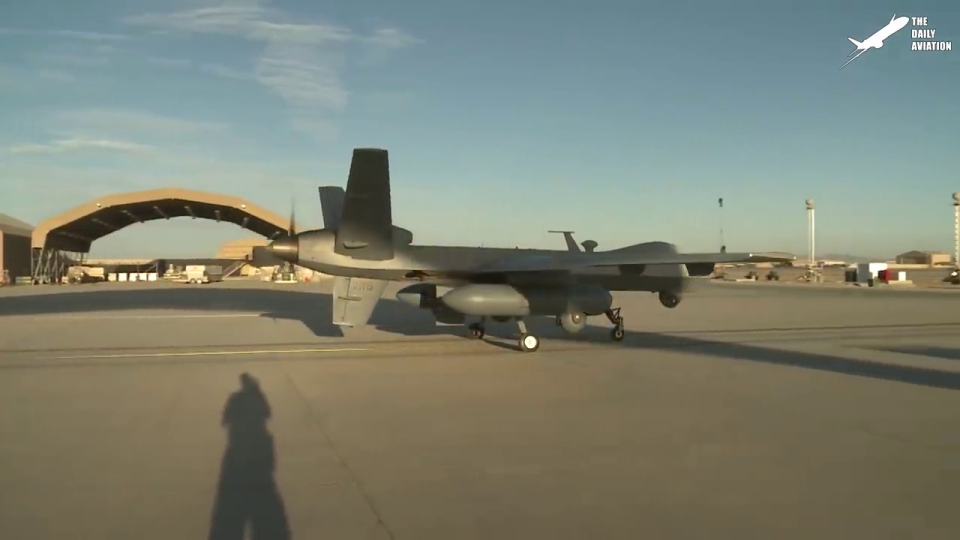military drone: (264, 147, 797, 353)
